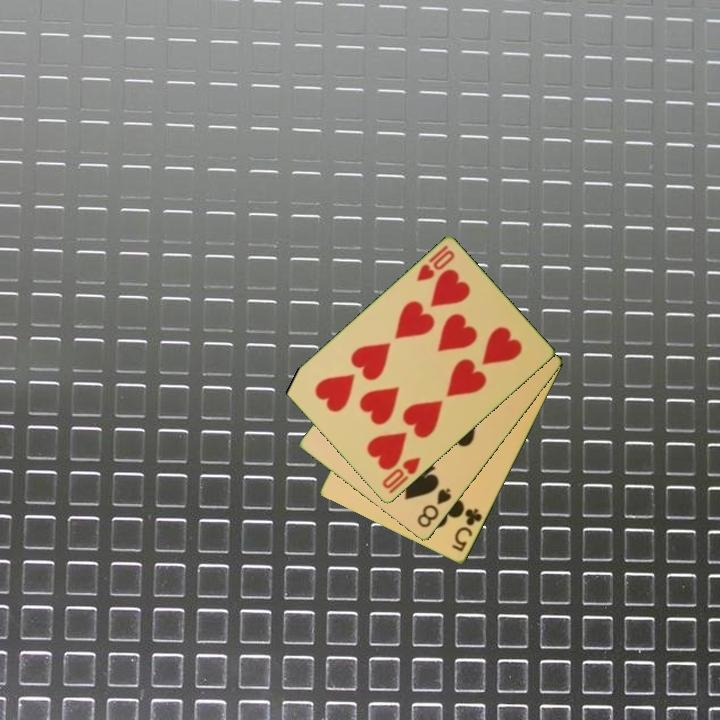10h: (379, 454, 424, 497), (413, 242, 458, 285)
5c: (448, 505, 485, 555)
8s: (413, 485, 454, 531)
